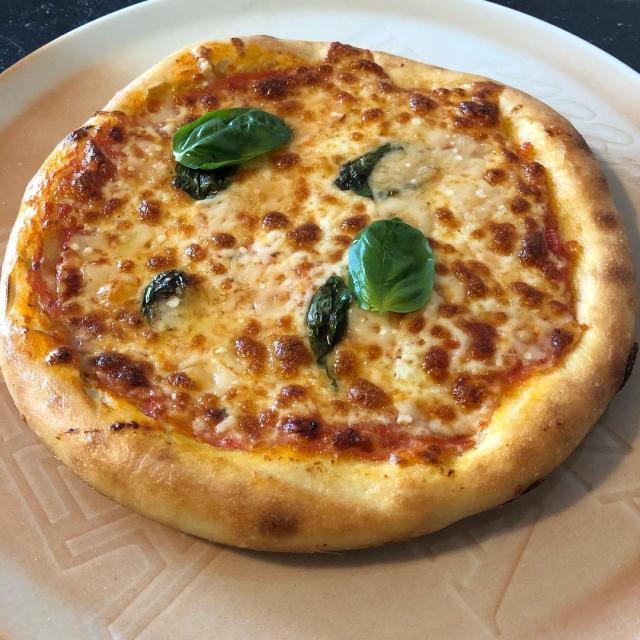basil: (349, 218, 435, 312), (173, 108, 291, 170), (306, 275, 353, 365), (335, 145, 402, 198), (141, 270, 199, 319), (172, 162, 237, 200)
pizza: (0, 34, 640, 556)
